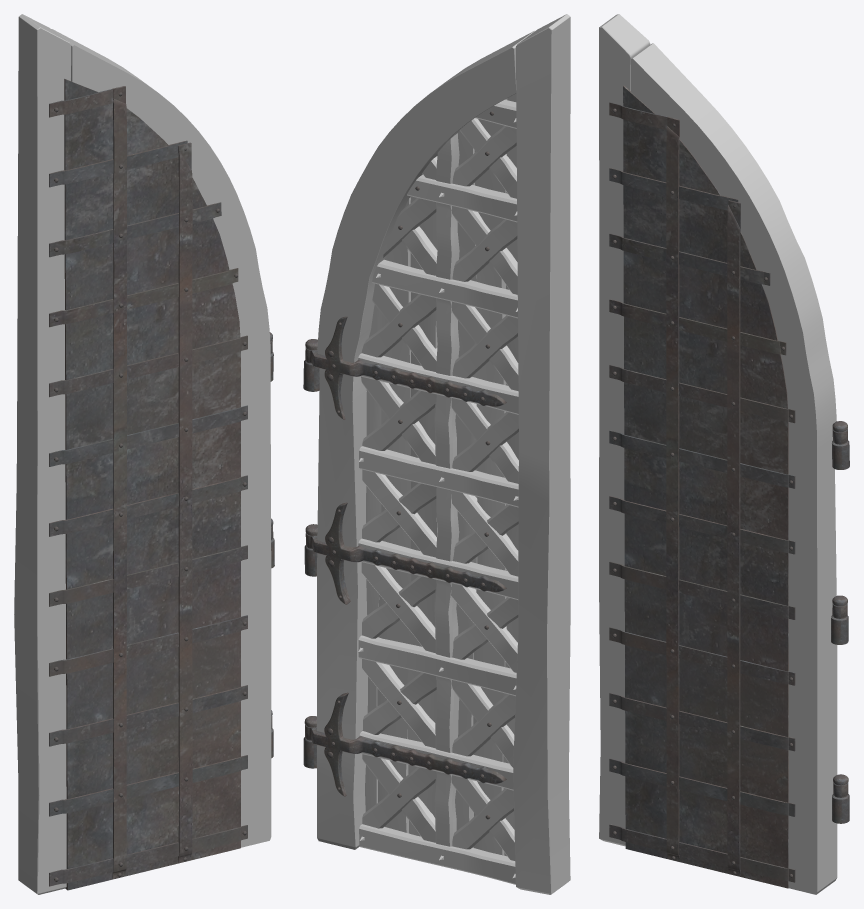
File: SM_Castle_Door.fbx
The picture shows the model from 3 angles, left to right: view 1: azimuth 30°, elevation 25°; view 2: azimuth 150°, elevation 25°; view 3: azimuth 330°, elevation 25°; orthographic projection. The views are drawn at different scales.
Visible parts, largest first — view 1: SM_Castle_Door_LOD0; view 2: SM_Castle_Door_LOD0; view 3: SM_Castle_Door_LOD0.
Part boxes in pixels (x1,y1,x2,y2): SM_Castle_Door_LOD0: (14, 14, 274, 894); SM_Castle_Door_LOD0: (303, 14, 570, 894); SM_Castle_Door_LOD0: (599, 14, 849, 894).
Bounding box in the file's own units: 158 × 31.4 × 525.
